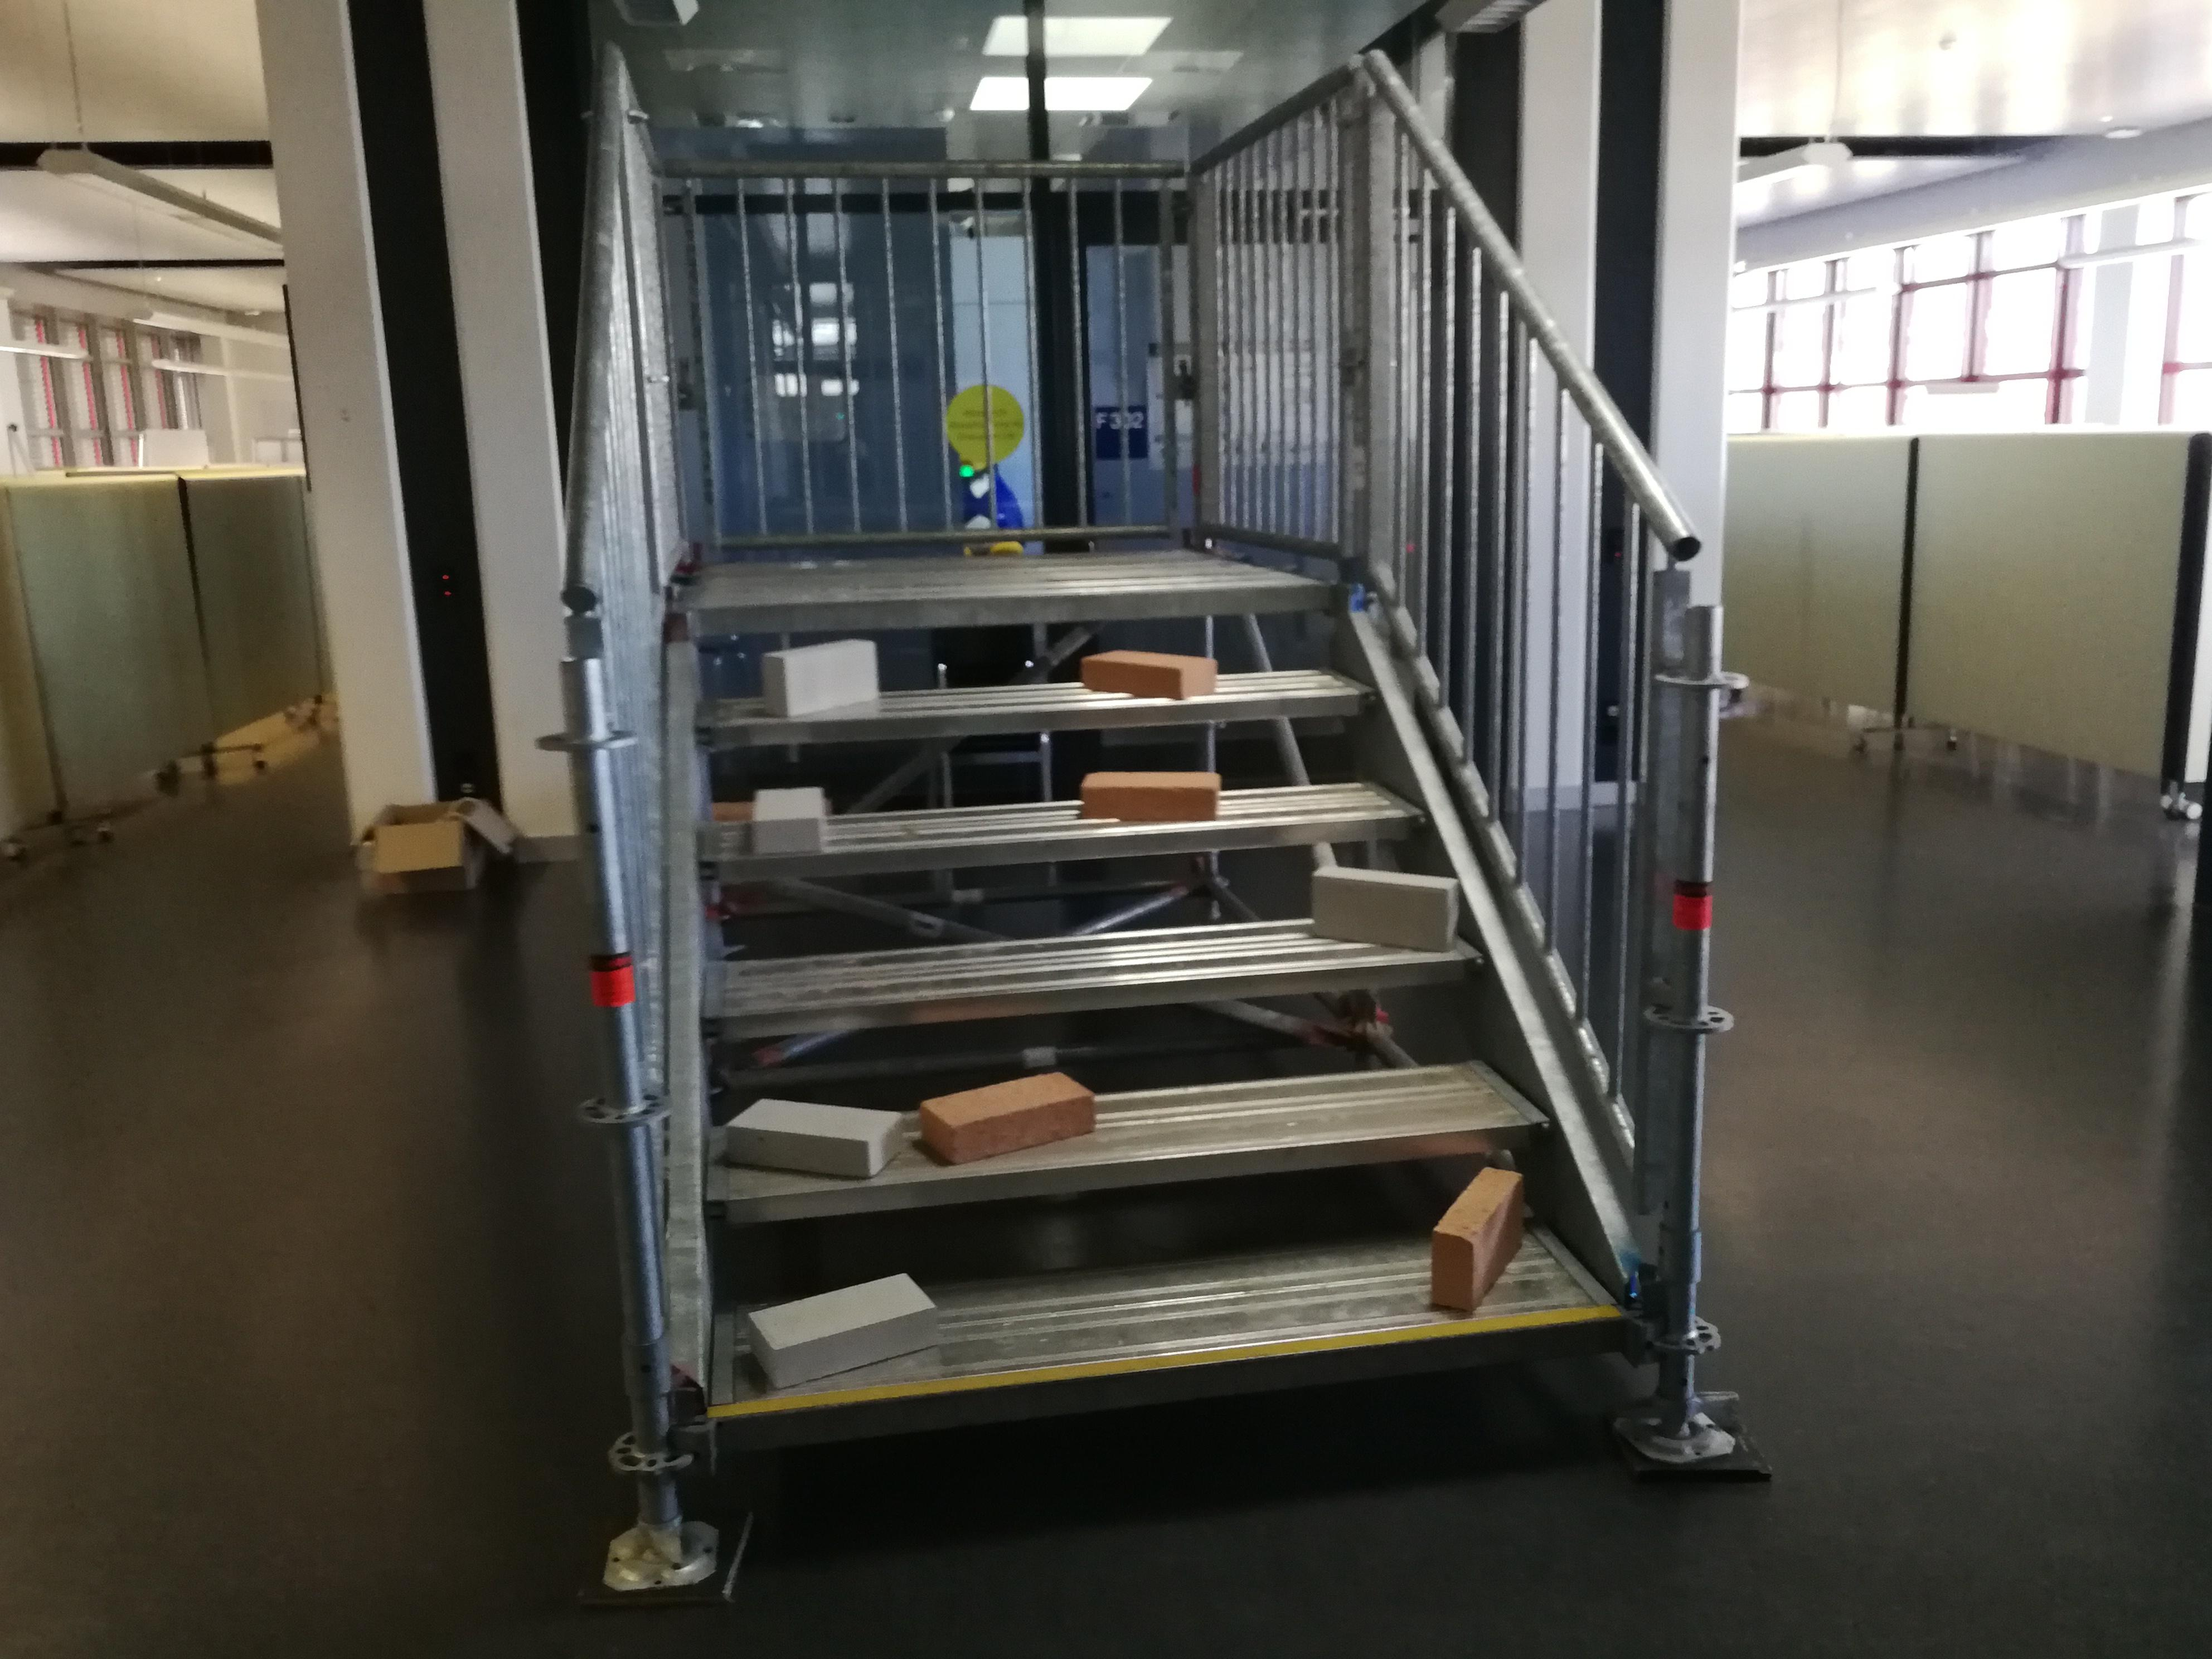brick: (744, 1276, 932, 1385), (721, 1093, 900, 1180), (923, 1073, 1089, 1168), (1435, 1168, 1522, 1310), (1317, 868, 1458, 950), (763, 636, 873, 714), (1080, 774, 1221, 821), (1080, 647, 1214, 695), (756, 791, 824, 852)
edge: (707, 1309, 1622, 1455), (700, 1127, 1555, 1218), (704, 955, 1477, 1040), (697, 817, 1418, 880), (695, 690, 1371, 742), (690, 584, 1332, 633)
stairs: (524, 42, 1766, 1601)
steps: (665, 572, 1634, 1480)
